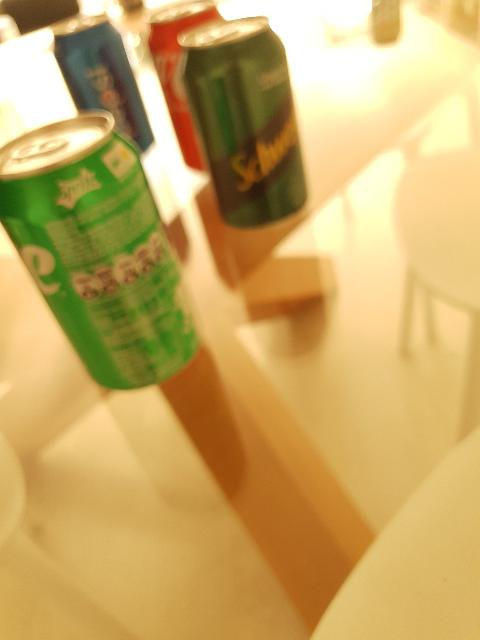coke: (148, 3, 234, 175)
schweppes: (180, 24, 308, 230)
sprite: (0, 123, 206, 391), (48, 14, 156, 154)
